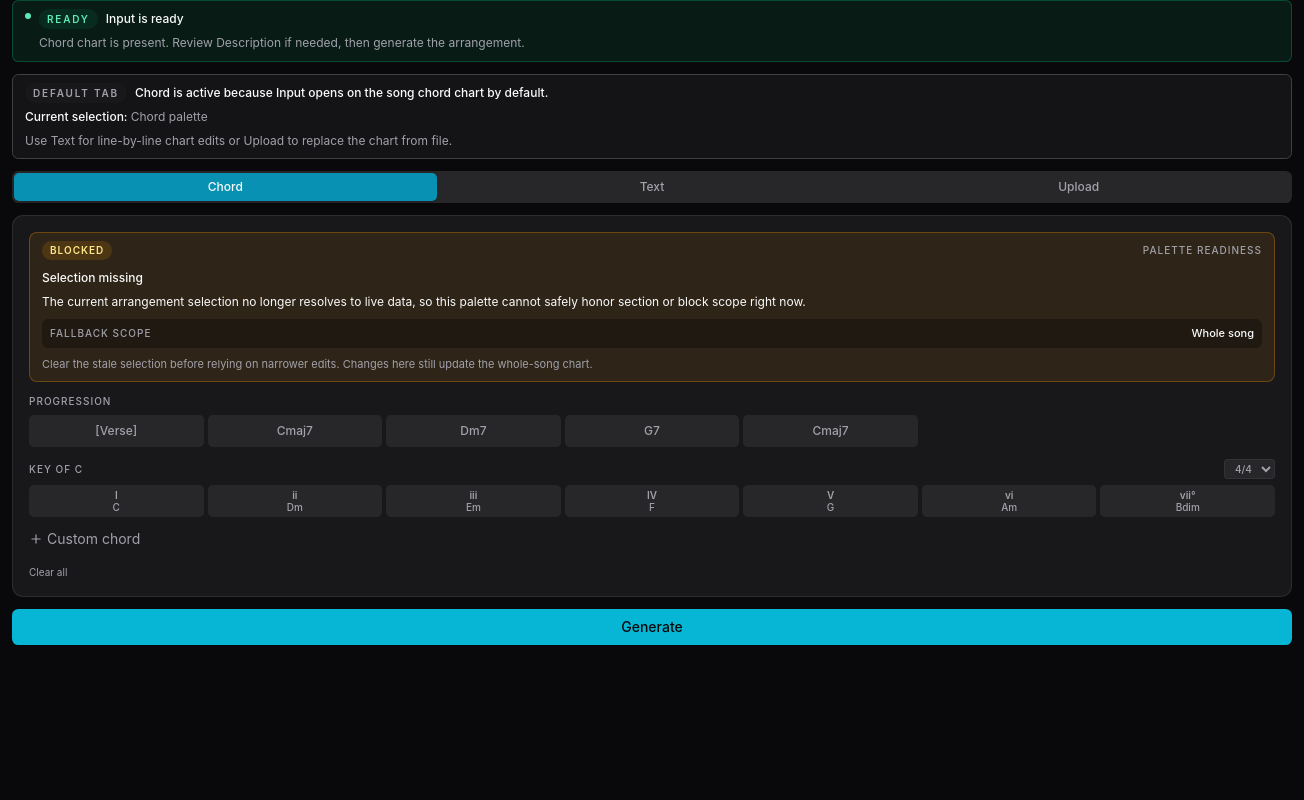
Test: InputSection upload tab › falls back to explicit whole-song truth when the selected block is stale on the text tab
This screenshot has width=1304, height=800.
Click the button "Text" at (652,187), box 441,173 -> 863,201
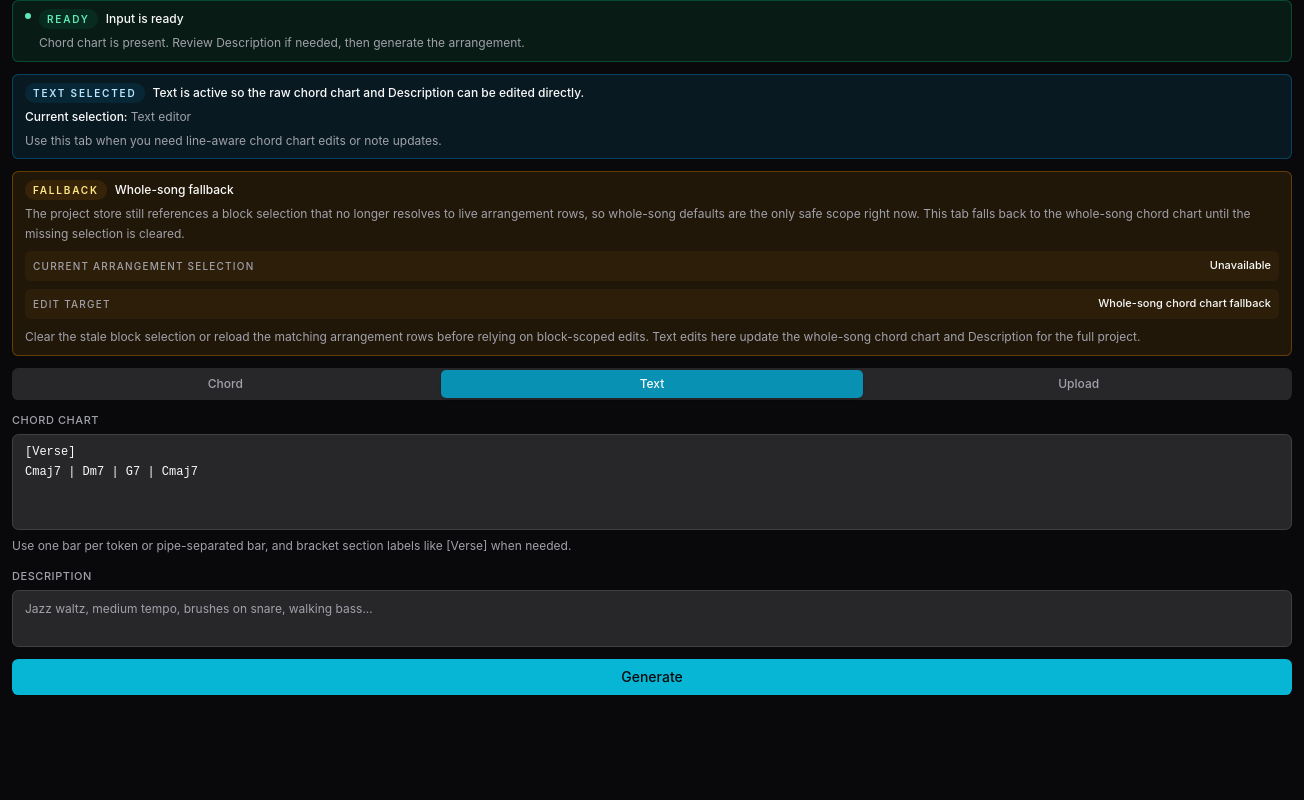
Expected: the element that starts with "Fallback" shows "Whole-song fallback", 115,182 -> 234,197
Expected: the element that starts with "Fallback" shows "The project store still references a block selection that no longer resolves to live arrangement rows, so whole-song defaults are the only safe scope right now.", 25,206 -> 1250,241
Expected: the element that starts with "Fallback" shows "This tab falls back to the whole-song chord chart until the missing selection is cleared.", 25,206 -> 1250,241
